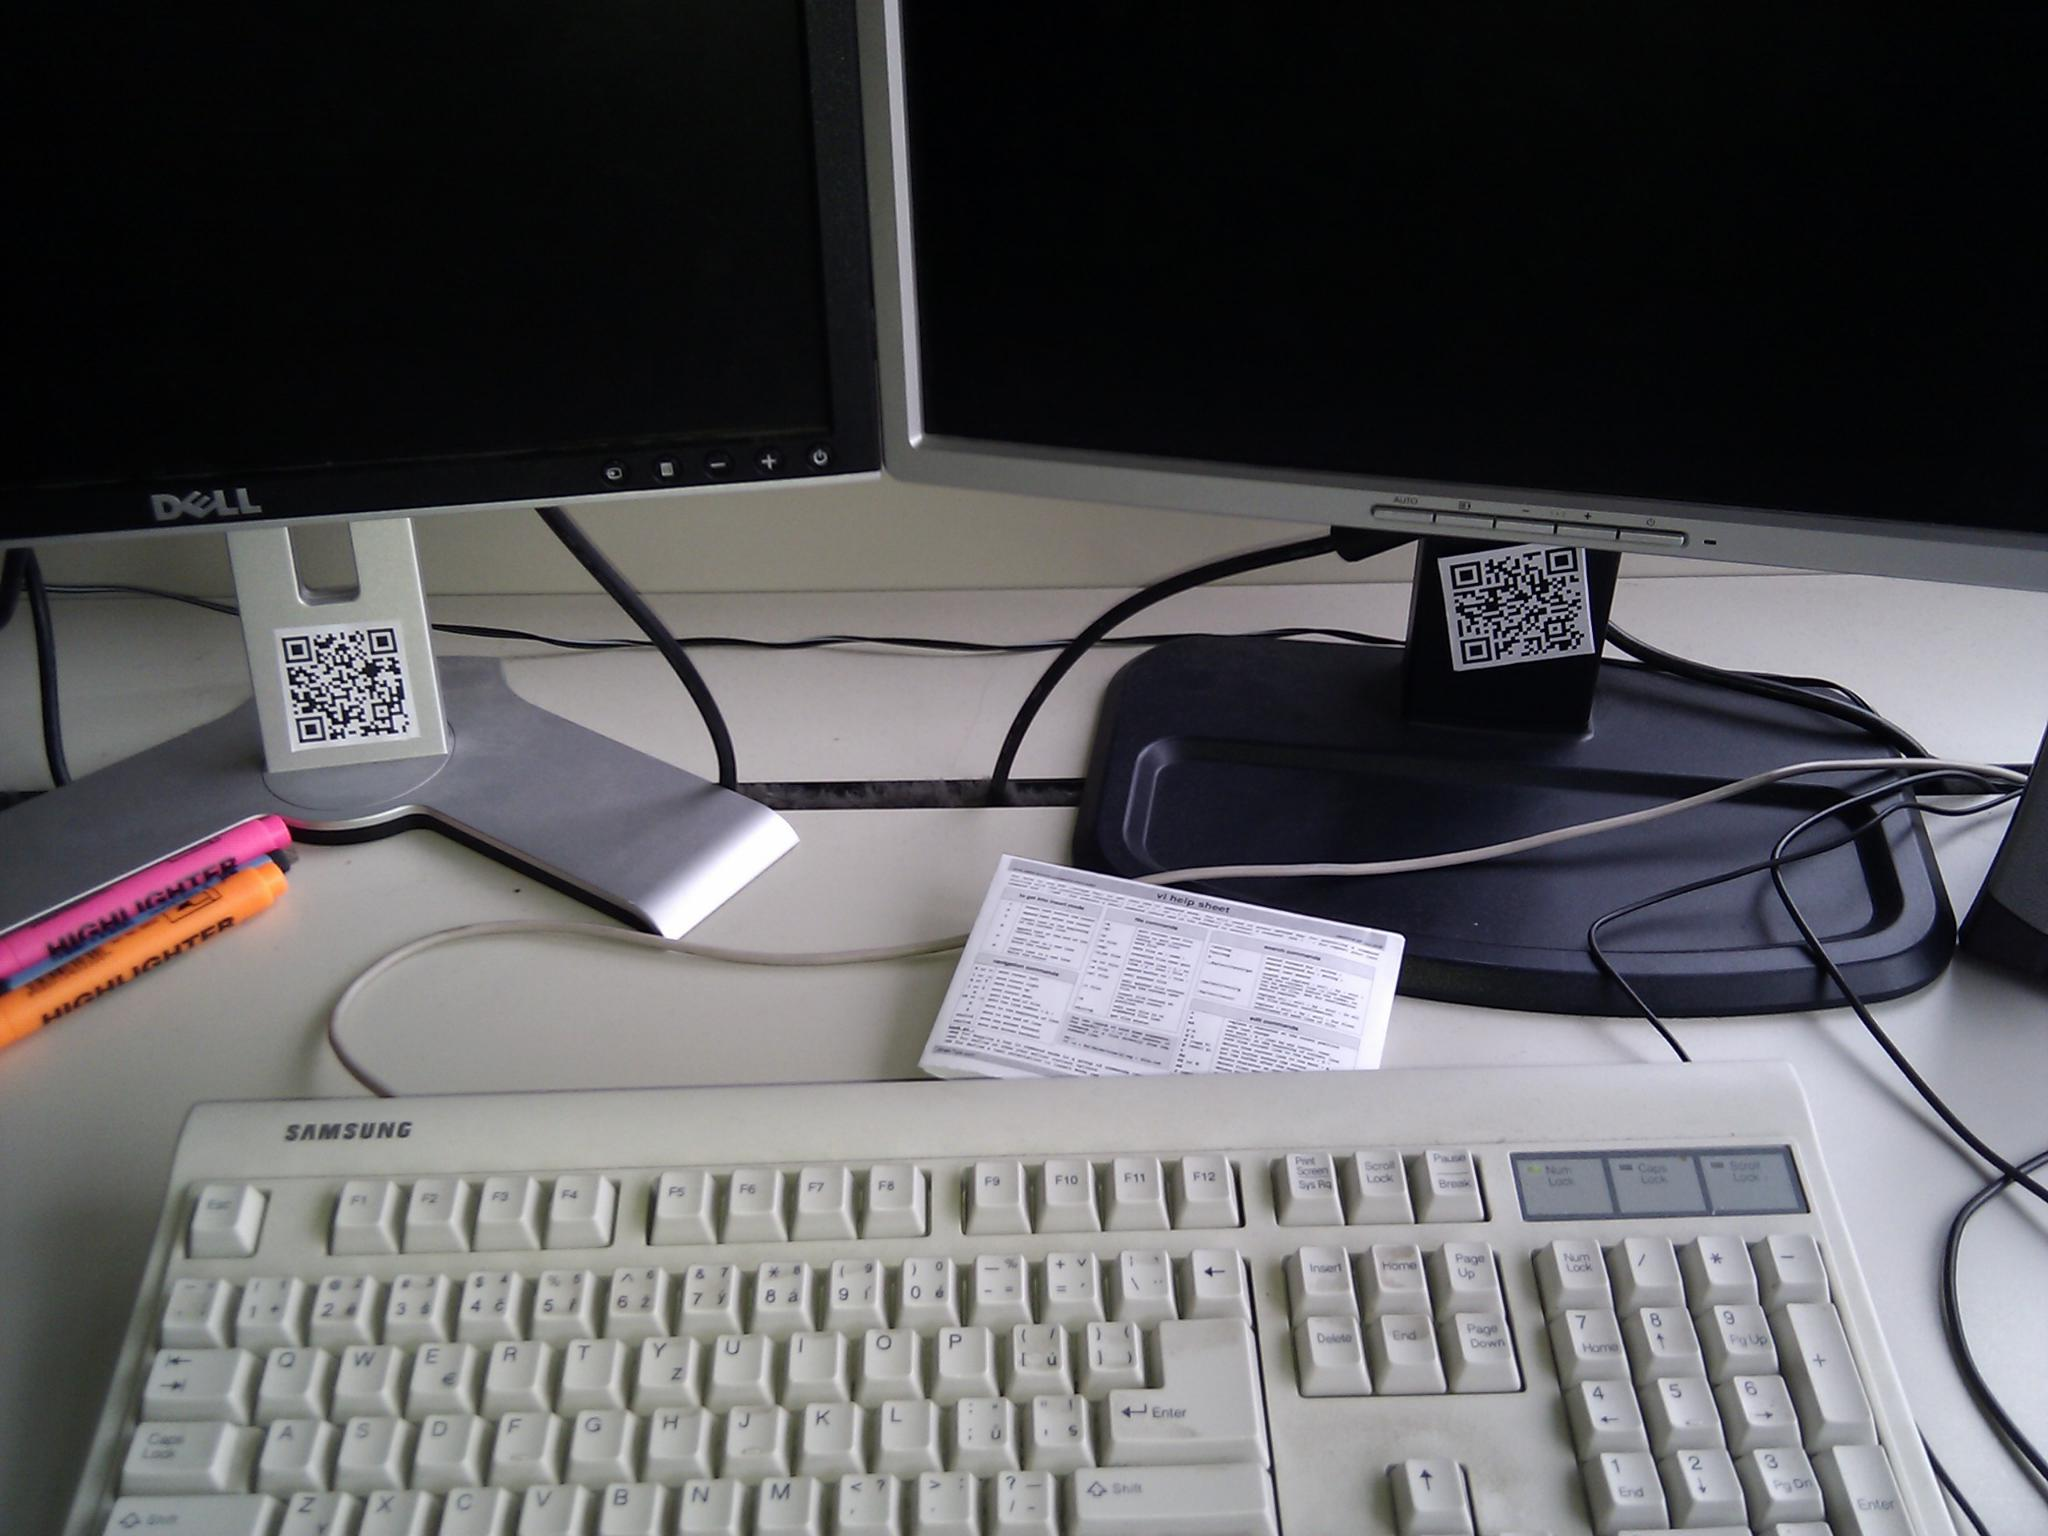Finder pattern: (360, 620, 405, 665), (1447, 552, 1490, 595), (289, 708, 332, 752), (1545, 537, 1580, 582), (279, 631, 318, 671), (1458, 632, 1496, 668)
